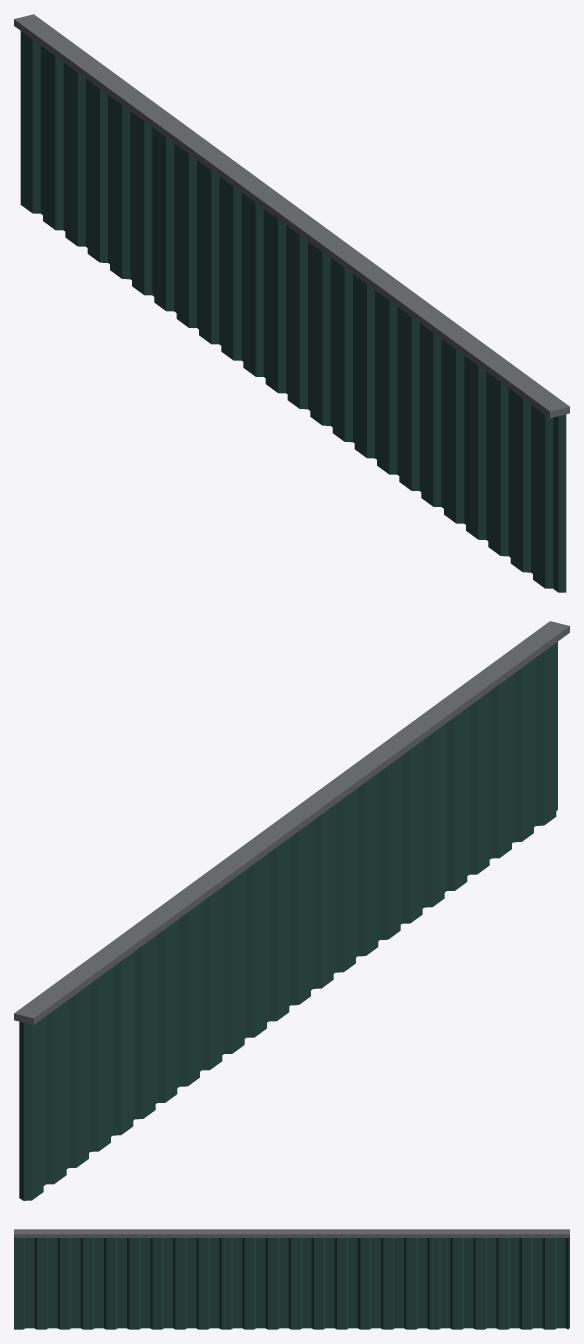
The model's file is BlueMetalWallLargeCorrugatedFencing1.fbx.
3 views of the same model, one above another, from view 1: azimuth 30°, elevation 25°; view 2: azimuth 150°, elevation 25°; view 3: azimuth 270°, elevation 25° (orthographic). The views are drawn at different scales.
Parts seen in each view (by area): view 1: BlueMetalWallLargeCorrugatedFencing1; view 2: BlueMetalWallLargeCorrugatedFencing1; view 3: BlueMetalWallLargeCorrugatedFencing1.
Part boxes in pixels (x1=…): BlueMetalWallLargeCorrugatedFencing1: x1=14, y1=14, x2=569, y2=592; BlueMetalWallLargeCorrugatedFencing1: x1=14, y1=621, x2=569, y2=1200; BlueMetalWallLargeCorrugatedFencing1: x1=14, y1=1229, x2=569, y2=1329.
Size of the model in its own units: 46.23 by 411 by 2157.
